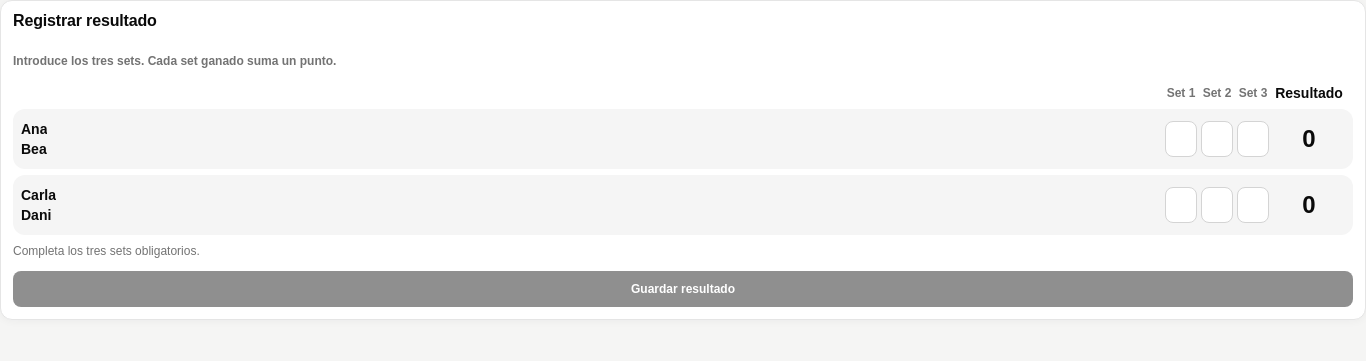
Test: result entry › keeps the three-set requirement and shows completed invalid scores
Type "6" into the 1st field at (1181, 139), box [1165, 121, 1197, 157]
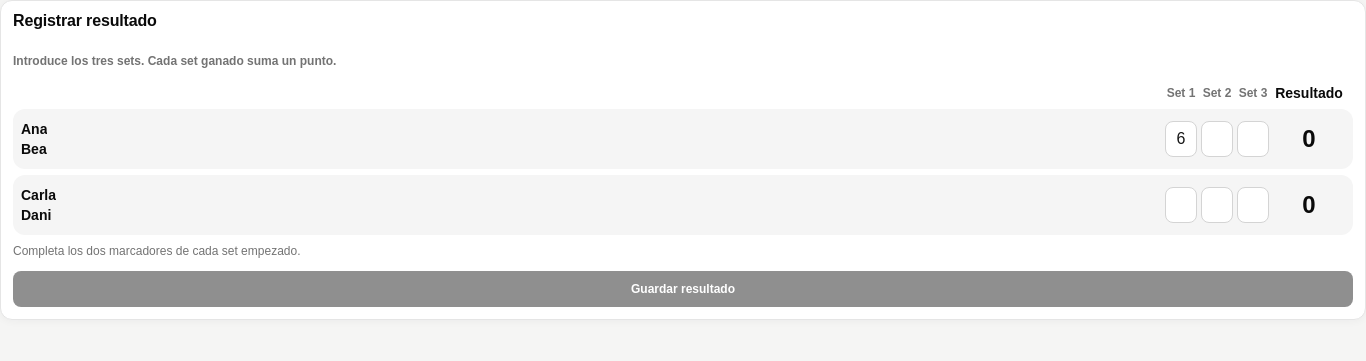
Type "6" into the 4th field at (1181, 205), box [1165, 187, 1197, 223]
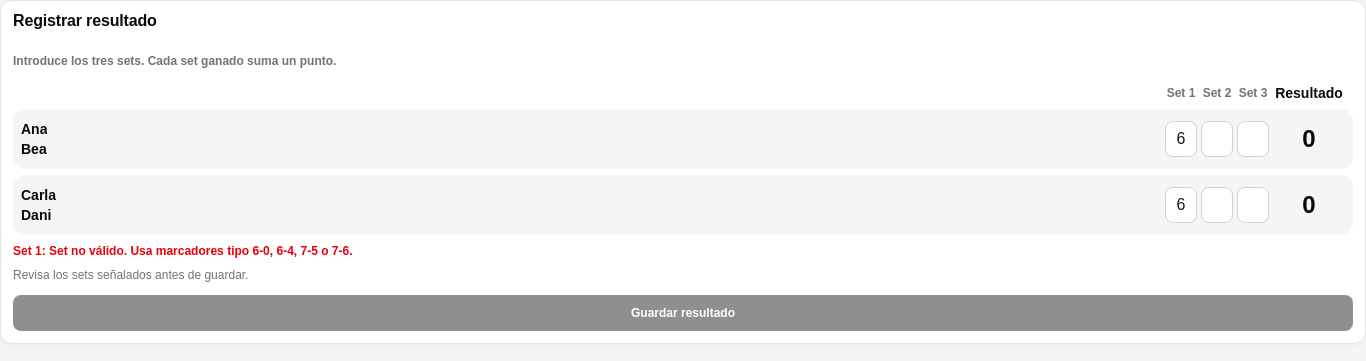
Expected: the text "Set 1: Set no válido" is shown, [13, 244, 352, 258]
Replace the text in the 4th field with "4" at (1181, 205), box [1165, 187, 1197, 223]
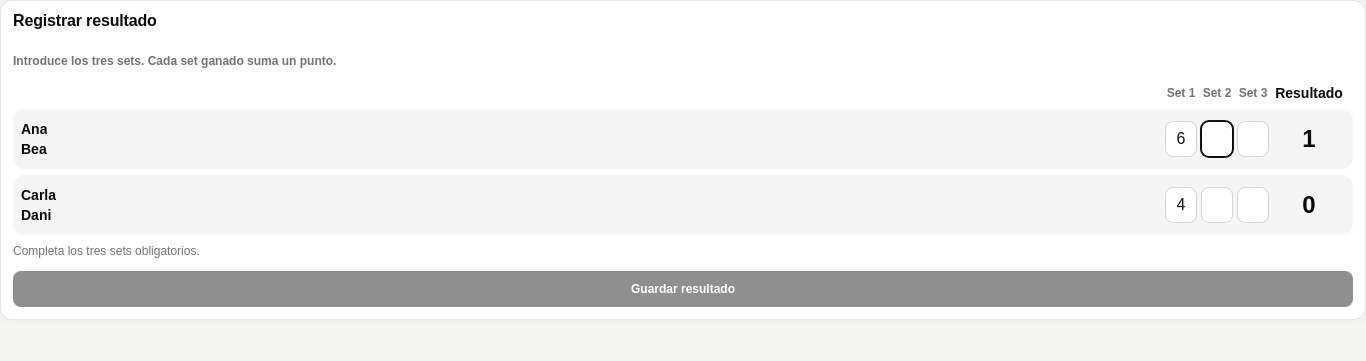
Expected: the button "Guardar resultado" is disabled, [13, 271, 1353, 307]
Expected: the text "Completa los tres sets obligatorios." is shown, [13, 244, 200, 258]
